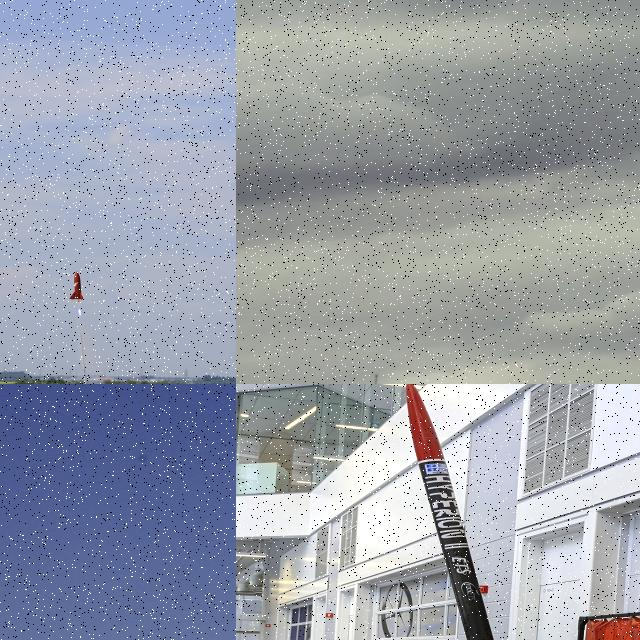Rocket: (406, 384, 493, 640), (68, 270, 84, 302), (372, 373, 378, 384)
